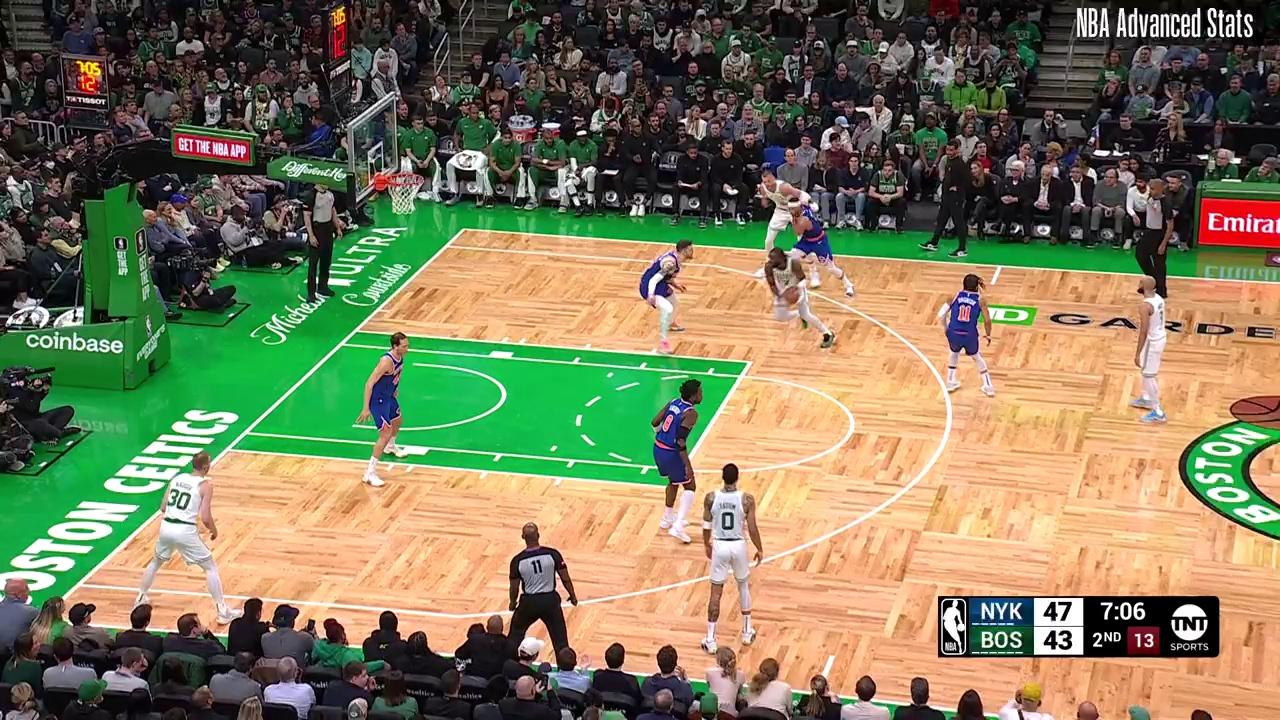3_dx: (442, 241, 453, 251)
3_sx: (71, 575, 89, 592)
b_dx: (458, 224, 469, 234)
free_adx: (743, 356, 756, 369)
free_bdx: (350, 324, 362, 336)
free_bsx: (221, 443, 234, 455)
mid_dx: (986, 279, 997, 290)
mid_sx: (827, 651, 838, 661)
referee: (505, 519, 585, 664), (1128, 174, 1179, 298), (303, 178, 342, 302)
team: (132, 450, 246, 621), (703, 463, 756, 653), (766, 251, 833, 355), (757, 170, 812, 275), (1131, 276, 1170, 423)
team1: (651, 375, 703, 545), (361, 331, 411, 496), (936, 273, 999, 396), (786, 198, 853, 298), (640, 239, 695, 355)
timer: (1090, 593, 1148, 626)
